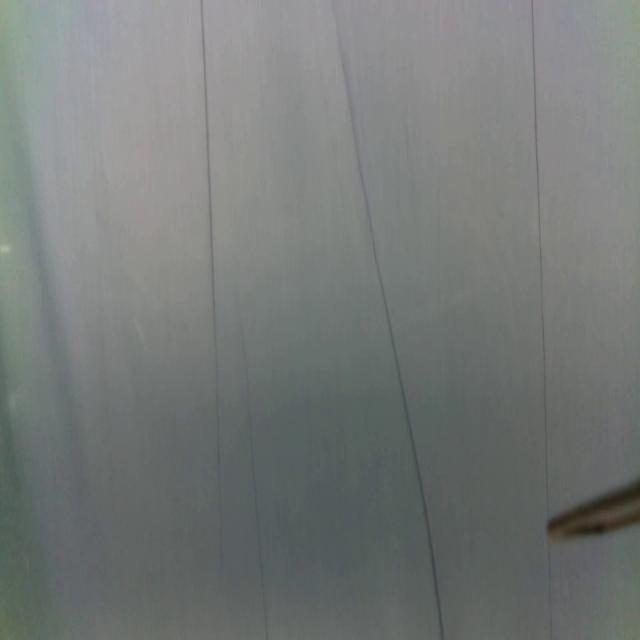crease: (331, 1, 442, 640), (198, 0, 225, 588), (530, 0, 554, 640), (241, 312, 269, 640)
